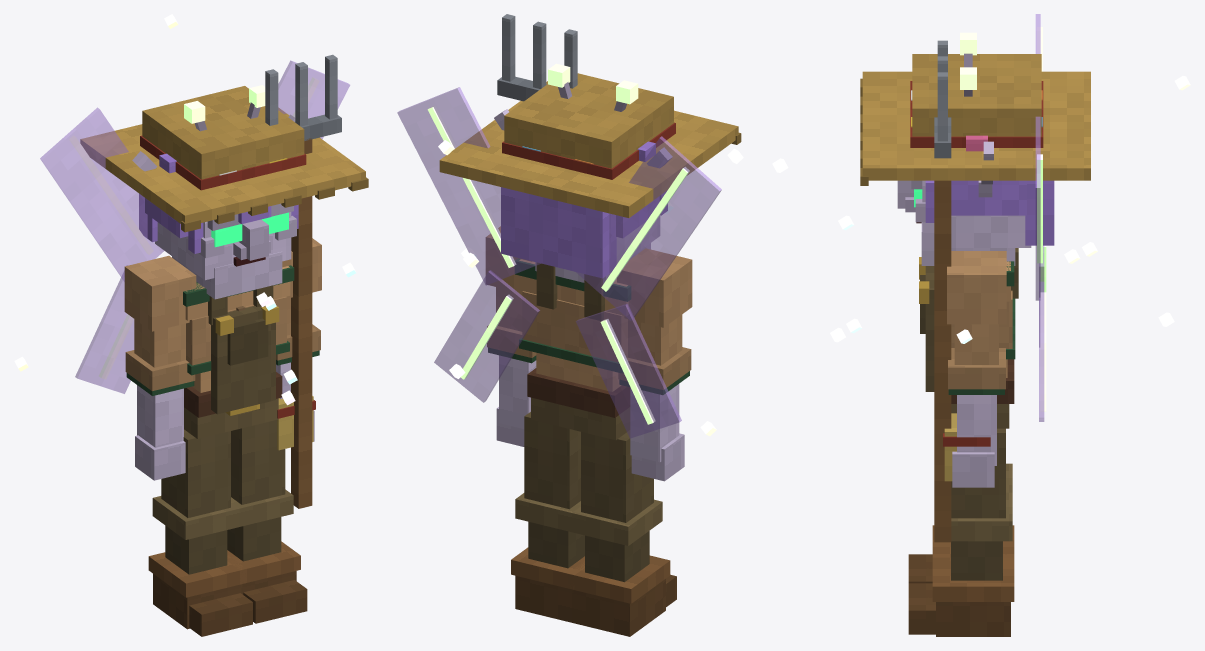
The model's file is fairy_fermier_v3.glb.
3 views of the same model, side by side, from view 1: azimuth 30°, elevation 25°; view 2: azimuth 150°, elevation 25°; view 3: azimuth 270°, elevation 25° (orthographic). The views are drawn at different scales.
Visible parts, largest first — view 1: Head, Torso, LegR, ArmR, LegL, HandL, ArmL; view 2: Torso, Head, LegR, ArmR, LegL, ArmL, HandL; view 3: Head, LegL, ArmL, Torso, HandL, LegR.
Part boxes in pixels (x1,y1,x2,y2): Head: (80,85,368,299); Torso: (14,14,356,450); LegR: (148,429,252,636); ArmR: (124,255,196,480); LegL: (227,420,307,623); HandL: (265,54,341,508); ArmL: (276,238,321,441); Torso: (397,87,743,440); Head: (439,63,741,284); LegR: (567,430,676,636); ArmR: (617,248,692,481); LegL: (511,412,584,622); ArmL: (485,226,536,446); HandL: (497,14,577,101); Head: (860,32,1090,265); LegL: (908,428,1014,636); ArmL: (947,251,1006,487); Torso: (772,14,1190,481); HandL: (934,40,951,542); LegR: (908,463,1014,583).
Bounding box in the file's own units: 0.7287 × 1.17 × 0.7622.
Materials: 46 (46 with a texture image).
